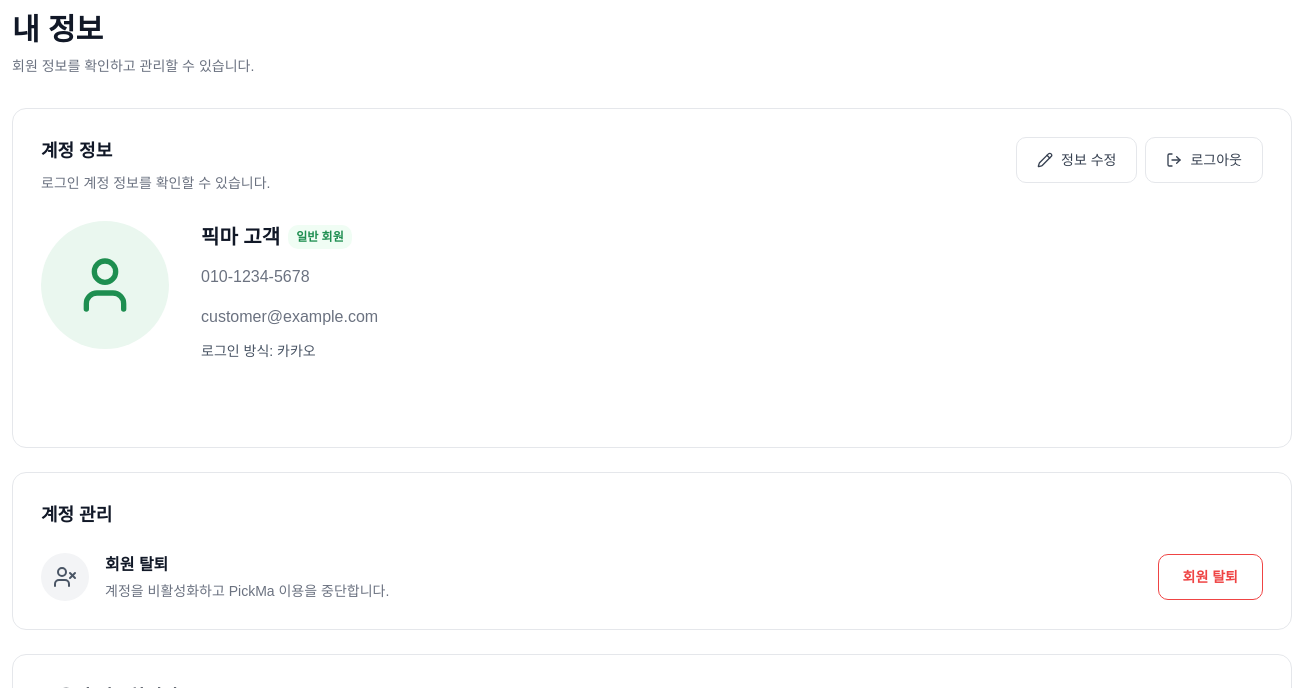
Test: ProfileEditPageContent › 저장 시 trim된 닉네임과 연락처를 업데이트하고 현재 페이지에 머문다
This screenshot has width=1292, height=688.
Step 1. Click the button "정보 수정" → click(1077, 160), box [1016, 137, 1137, 183]
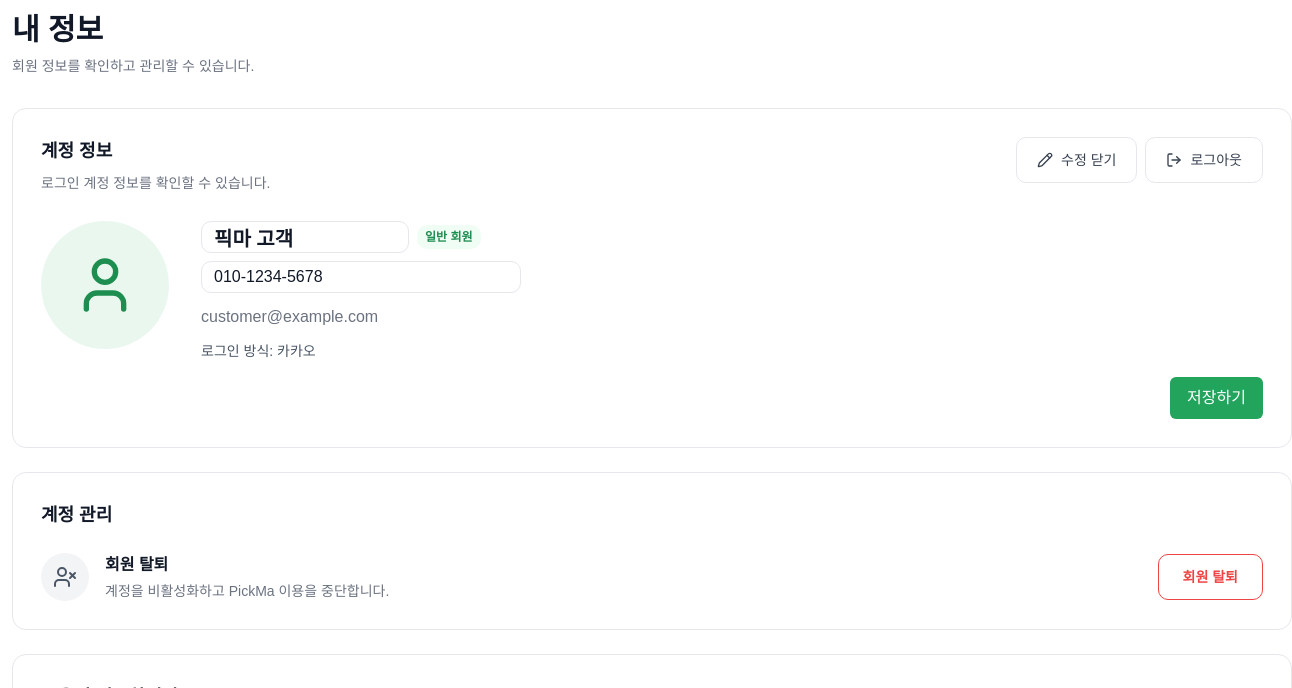
Step 2. Replace the text in the field named "닉네임" with " 새 이름 " → (305, 237), box [201, 221, 409, 253]
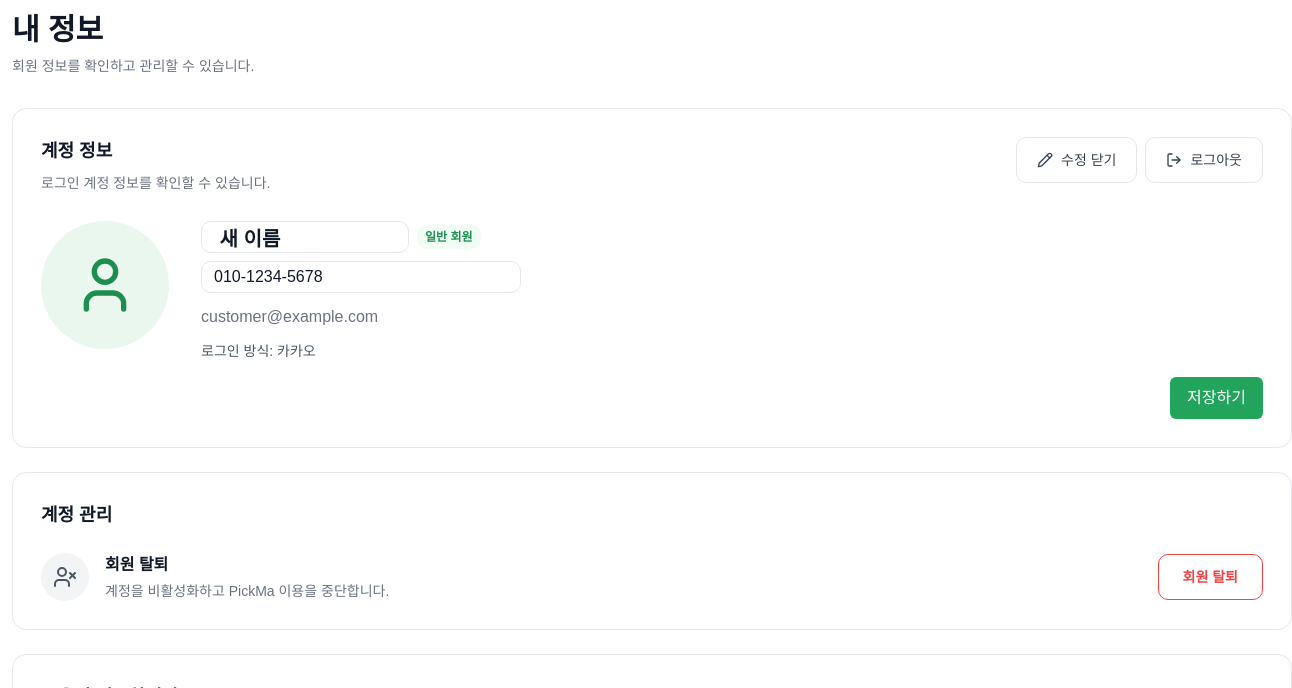
Step 3. Replace the text in the field named "연락처" with " 010-9999-0000 " → (361, 277), box [201, 261, 521, 293]
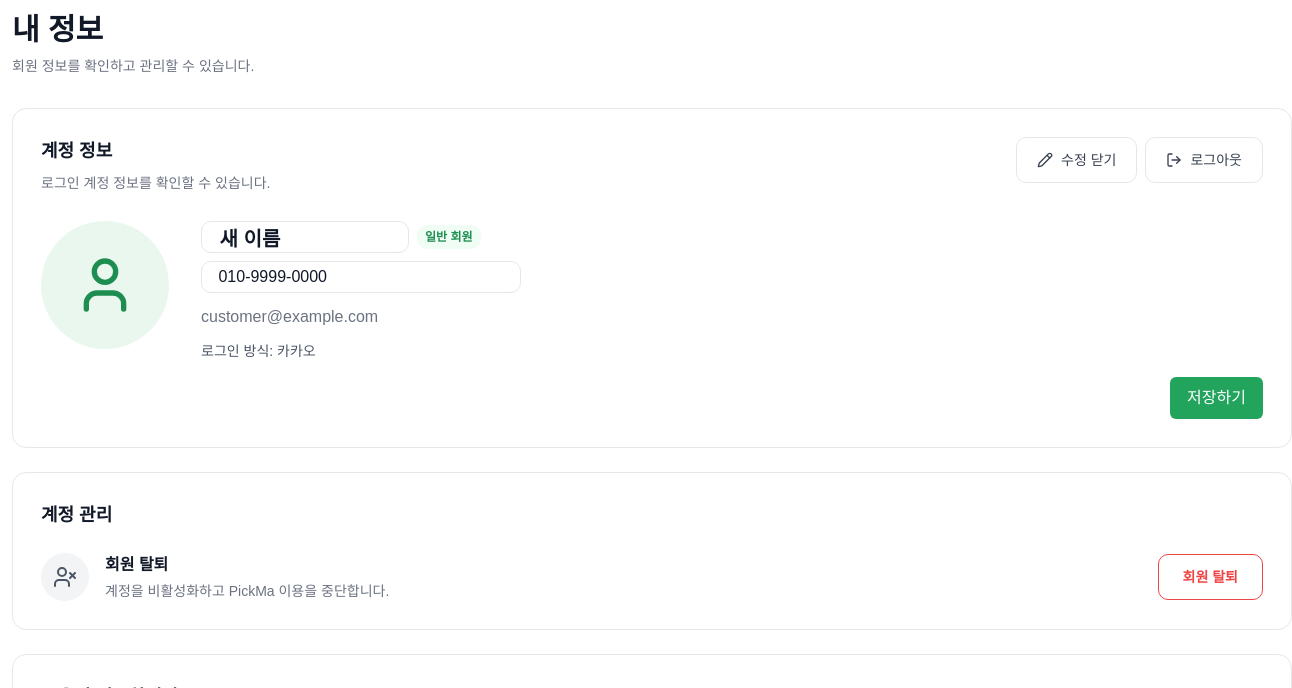
Step 4. Click the button "저장하기" → click(1217, 398), box [1170, 377, 1263, 419]
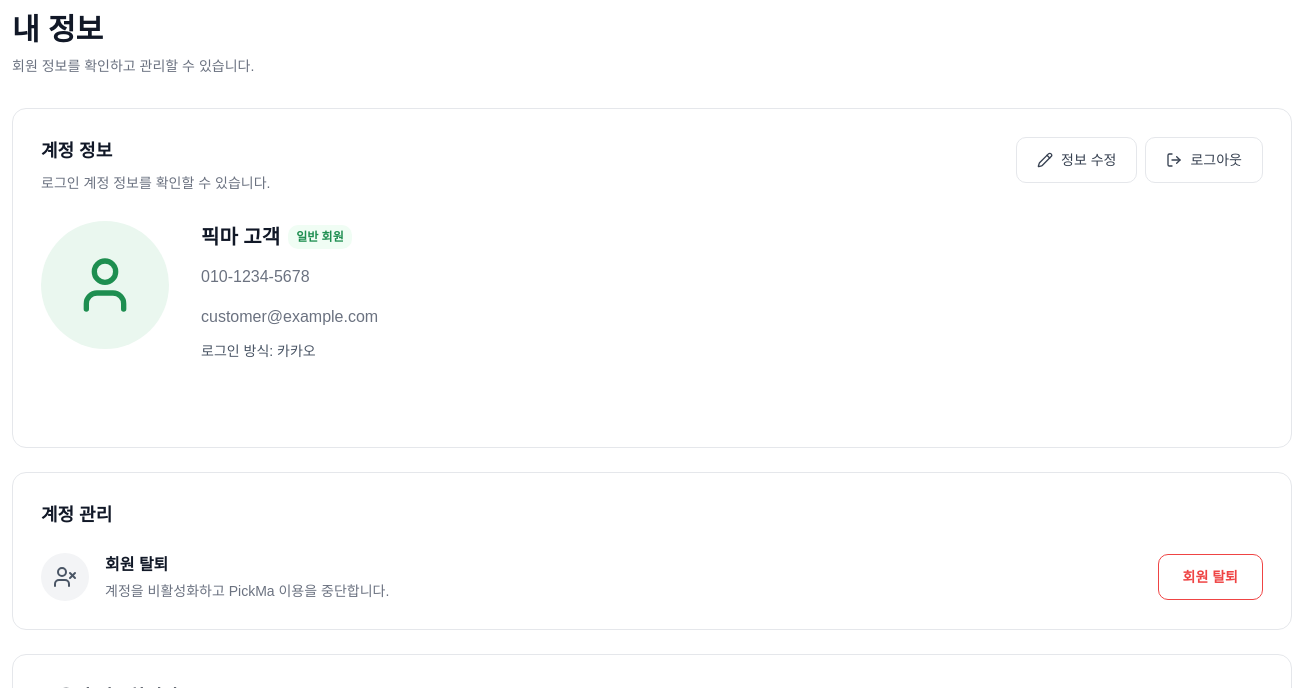
Check: the field labelled "닉네임" is gone
Check: the button "저장하기" is gone
